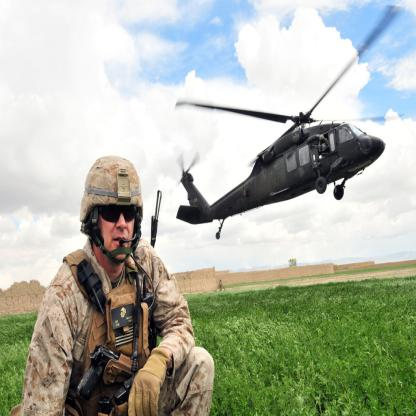Helmet: (80, 153, 143, 264)
